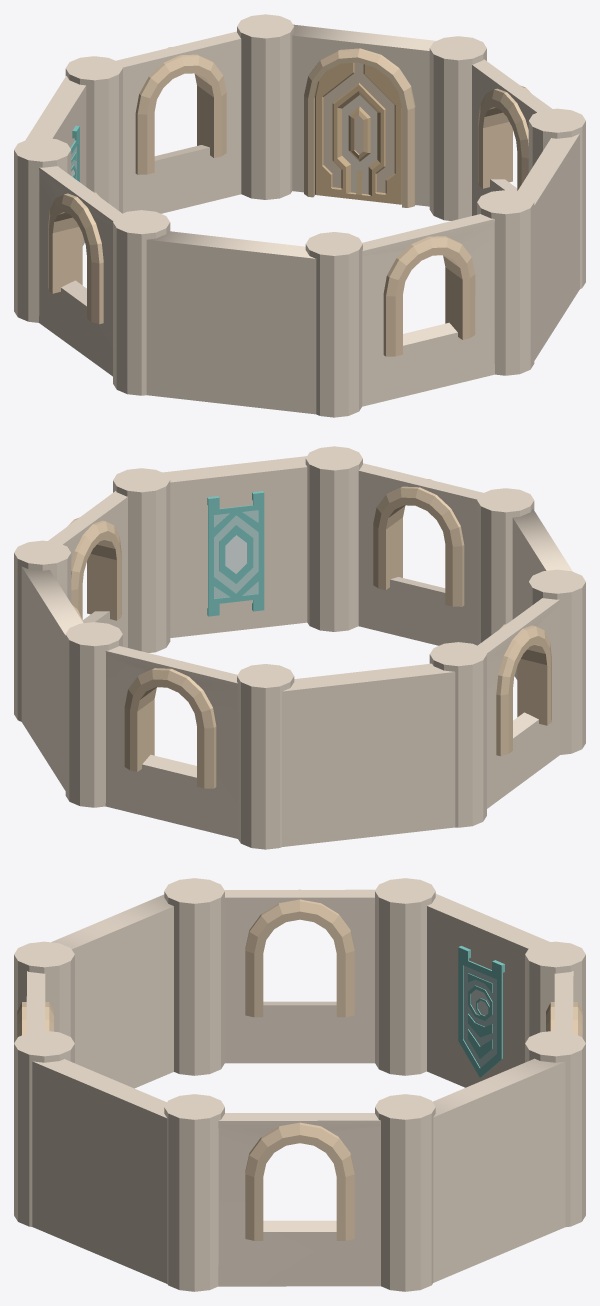
Rendered from main_room_walls.glb.
The picture shows the model from 3 angles, top to bottom: view 1: azimuth 30°, elevation 25°; view 2: azimuth 150°, elevation 25°; view 3: azimuth 270°, elevation 25°; orthographic projection. The views are drawn at different scales.
Visible parts, largest first — view 1: wall.006, wall.002, wall.005, wall.001, wall.007, wall.003, wall.004, wall.000; view 2: wall.000, wall.004, wall.001, wall.005, wall.007, wall.002, wall.003, wall.006; view 3: wall.004, wall.003, wall.007, wall.002, wall.000, wall.006, wall.005, wall.001.
Boxes of the visible parts, x1,y1,x2,y2 form: wall.006: [146, 231, 362, 417]; wall.002: [237, 14, 435, 207]; wall.005: [362, 190, 534, 406]; wall.001: [65, 31, 241, 213]; wall.007: [39, 166, 170, 395]; wall.003: [429, 36, 551, 220]; wall.004: [517, 108, 585, 360]; wall.000: [14, 76, 86, 322]; wall.000: [282, 642, 486, 846]; wall.004: [113, 456, 307, 652]; wall.001: [105, 646, 294, 849]; wall.005: [305, 446, 483, 645]; wall.007: [477, 569, 585, 808]; wall.002: [21, 566, 122, 807]; wall.003: [14, 491, 127, 721]; wall.006: [477, 488, 572, 679]; wall.004: [32, 1059, 224, 1291]; wall.003: [218, 1094, 435, 1291]; wall.007: [164, 878, 375, 1075]; wall.002: [433, 1030, 585, 1282]; wall.000: [375, 878, 550, 1087]; wall.006: [14, 894, 173, 1088]; wall.005: [14, 971, 74, 1226]; wall.001: [525, 941, 585, 1042].
Bounding box in the file's own units: 9.39 × 3.12 × 9.39.
